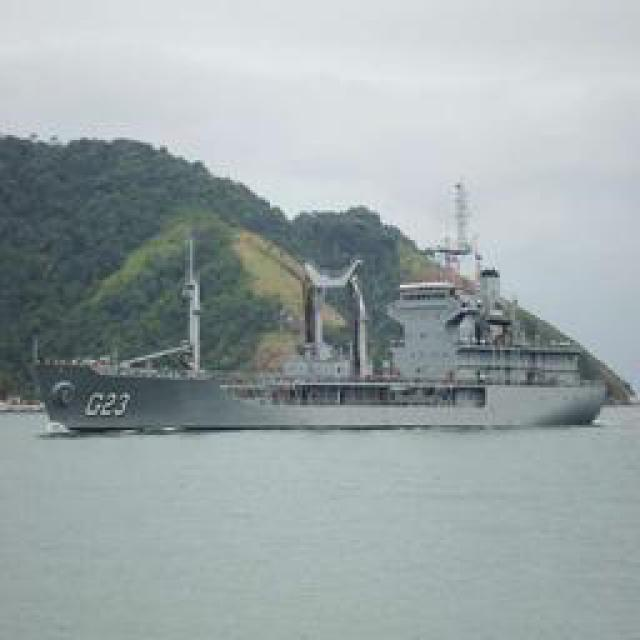Ship: (39, 191, 604, 431)
